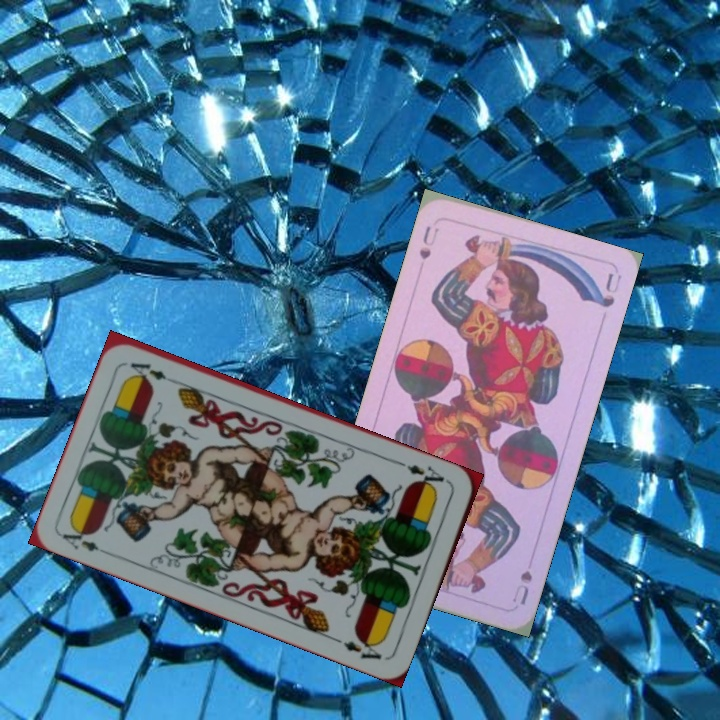EA: (58, 522, 114, 558), (396, 458, 453, 493)
SU: (508, 566, 535, 608), (415, 221, 442, 263)
